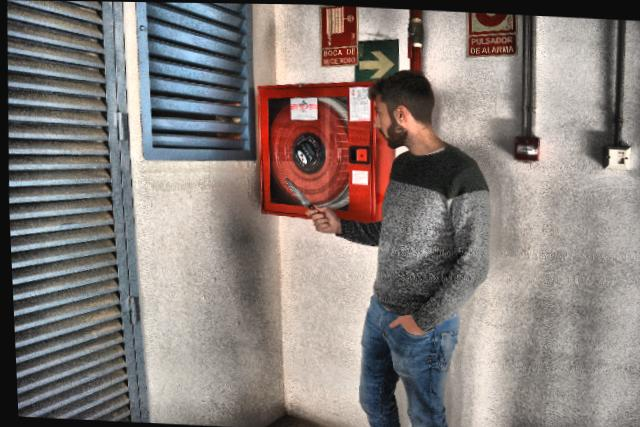knife: (280, 174, 319, 215)
